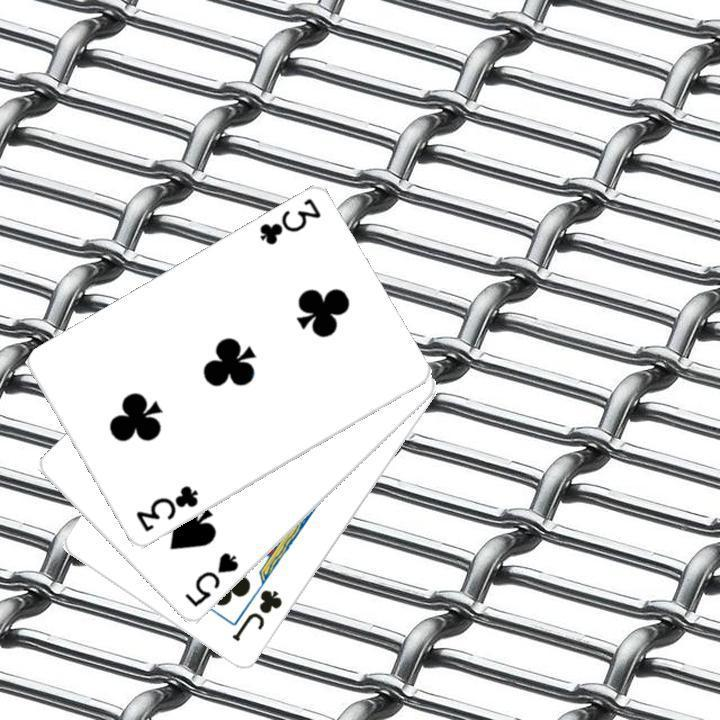3: (131, 481, 200, 535), (254, 194, 323, 248)
5: (180, 548, 241, 610)
J: (227, 585, 285, 644)
